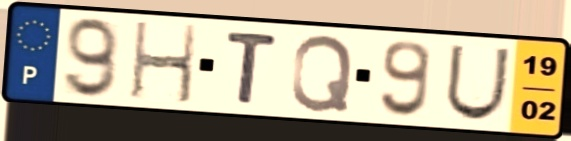9: (63, 15, 121, 100), (379, 38, 435, 120)
H: (128, 19, 200, 107)
Q: (287, 32, 356, 114)
T: (223, 28, 282, 108)
U: (441, 42, 514, 123)
